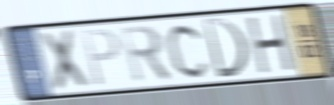C: (165, 20, 213, 80)
D: (200, 16, 251, 80)
H: (246, 12, 297, 78)
P: (80, 26, 122, 89)
R: (118, 22, 176, 87)
X: (36, 27, 93, 94)
